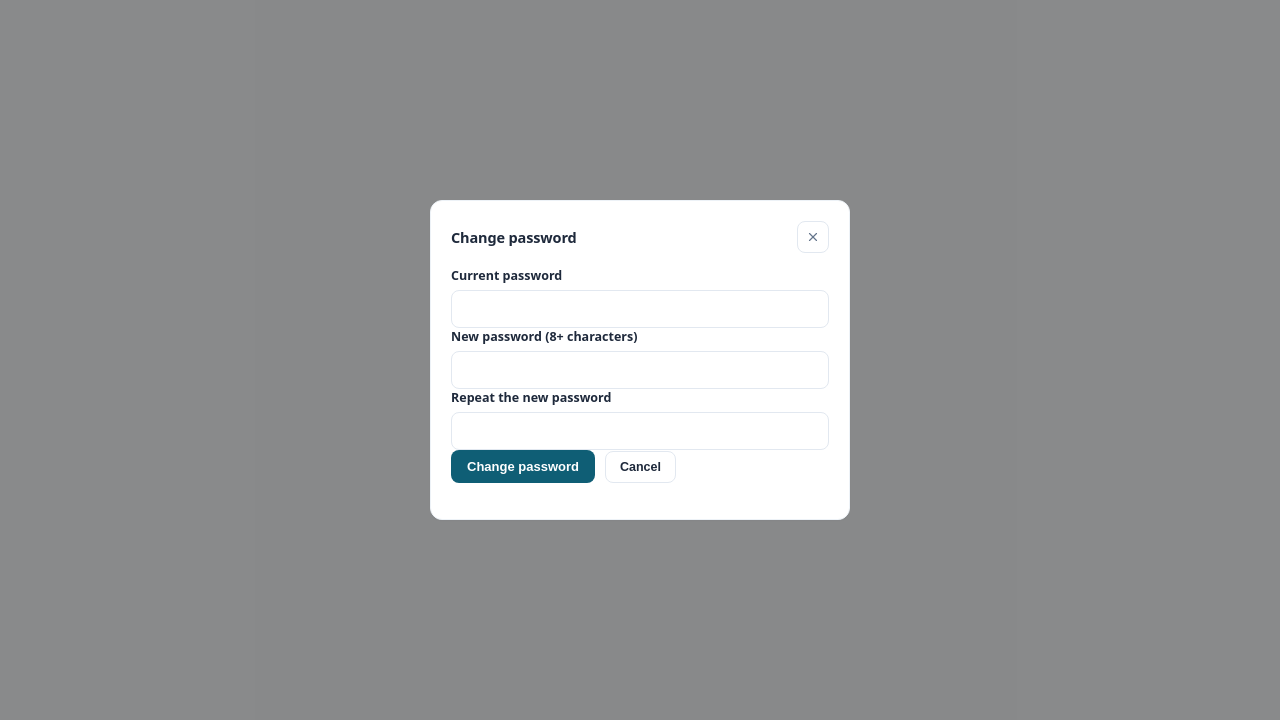
Test: Change password › a wrong current password shows the server message and keeps the session
This screenshot has width=1280, height=720.
Type "wrong" into the password field labelled "Current password" at (640, 309), box [451,290,829,328]
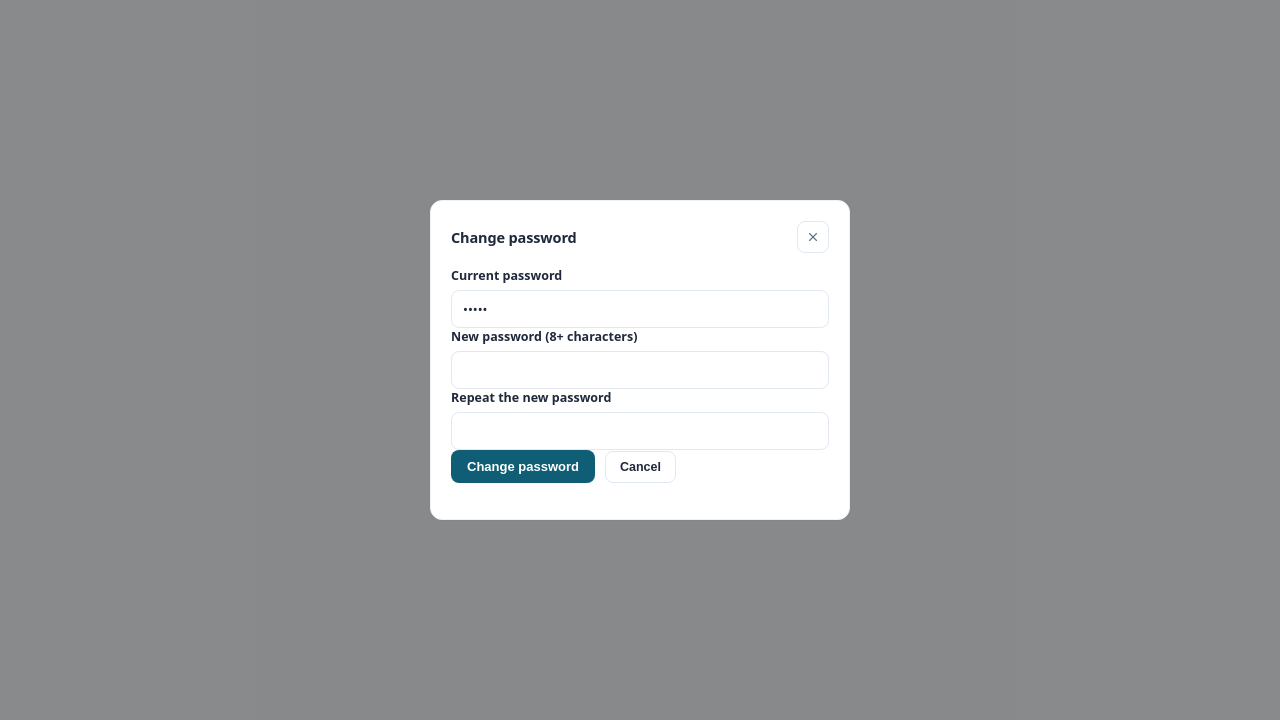
Type "new-pass-456" into the password field labelled "New password (8+ characters)" at (640, 370), box [451,351,829,389]
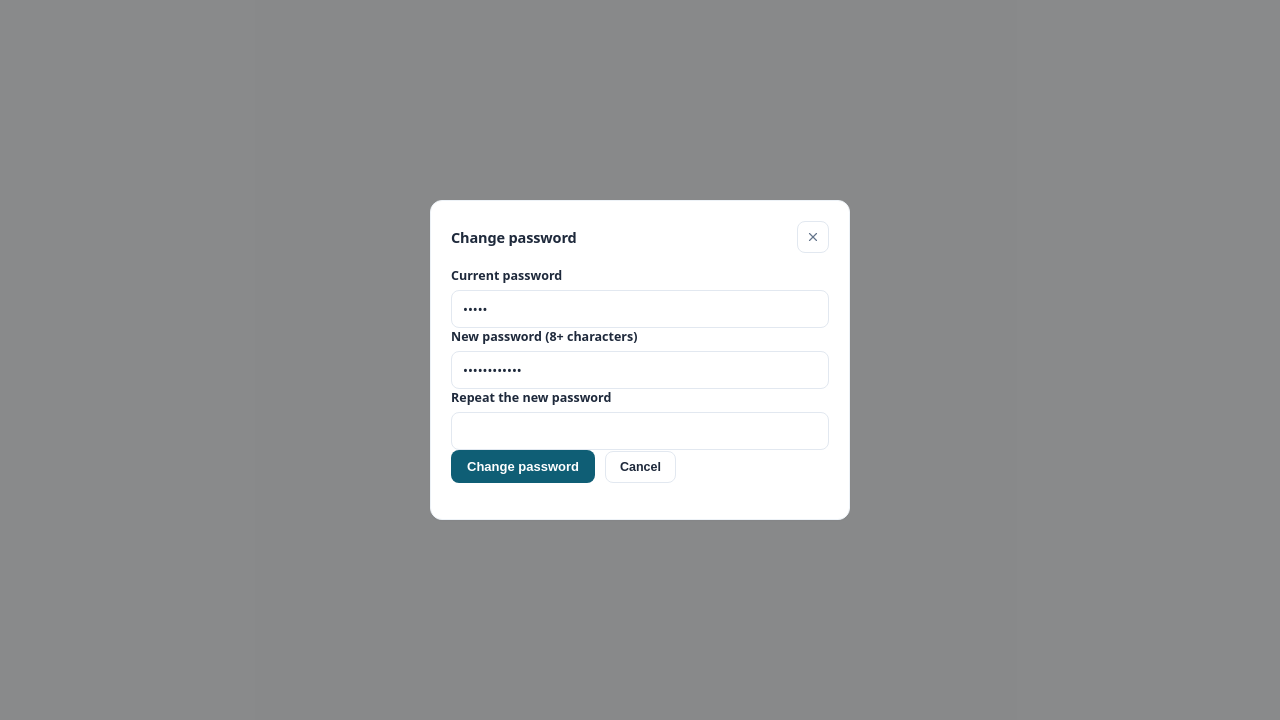
Type "new-pass-456" into the password field labelled "Repeat the new password" at (640, 431), box [451,412,829,450]
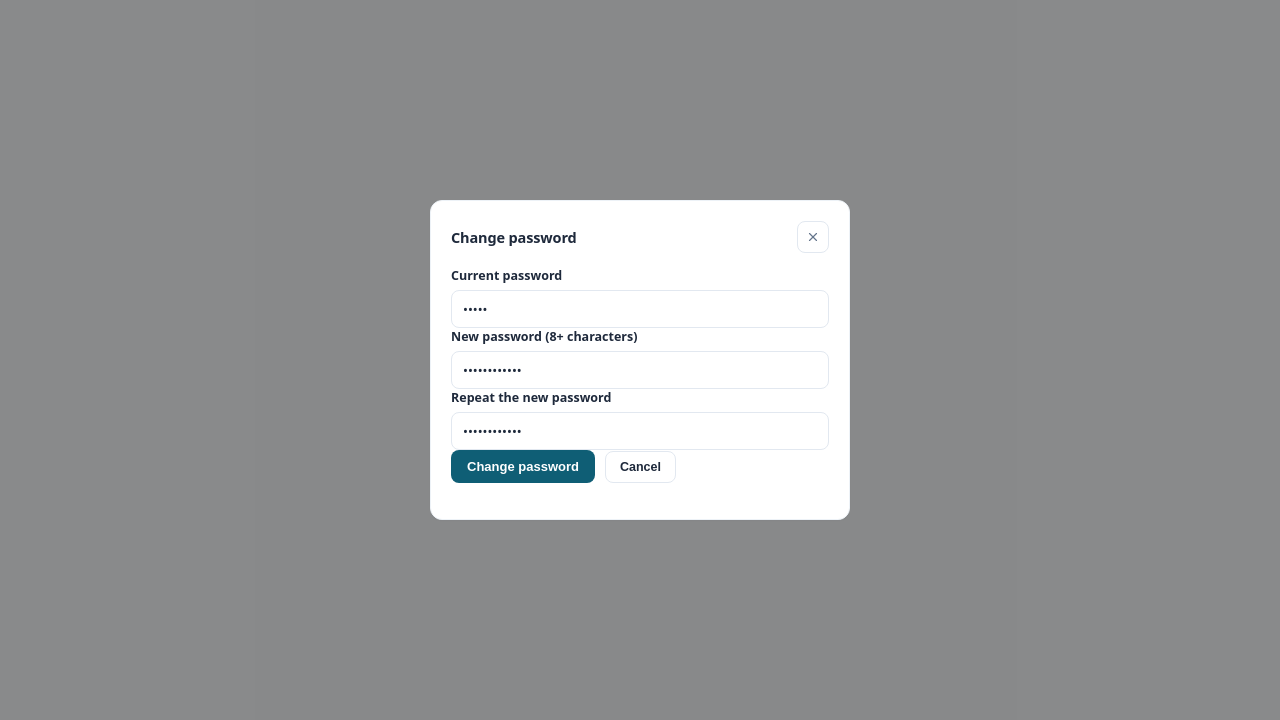
Submit the form labelled "Current password", box [451,267,829,483]
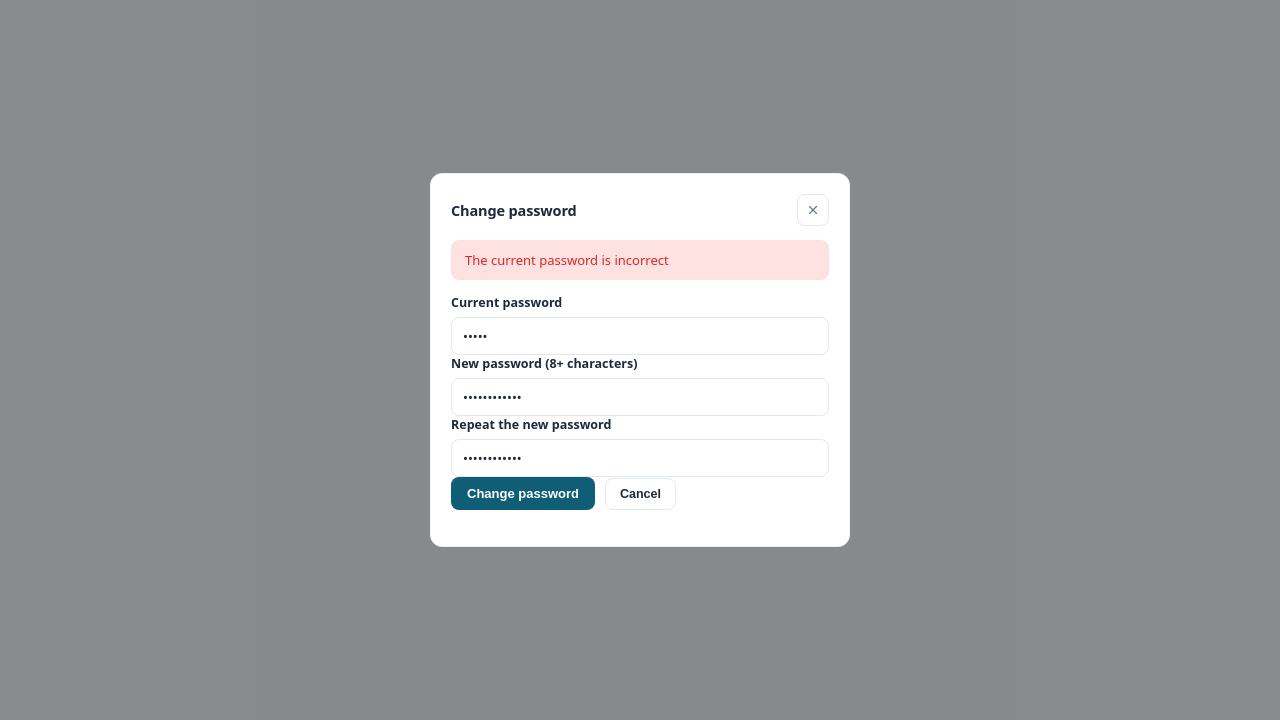
Check: the text "The current password is incorrect" is shown, box [451,240,829,280]
